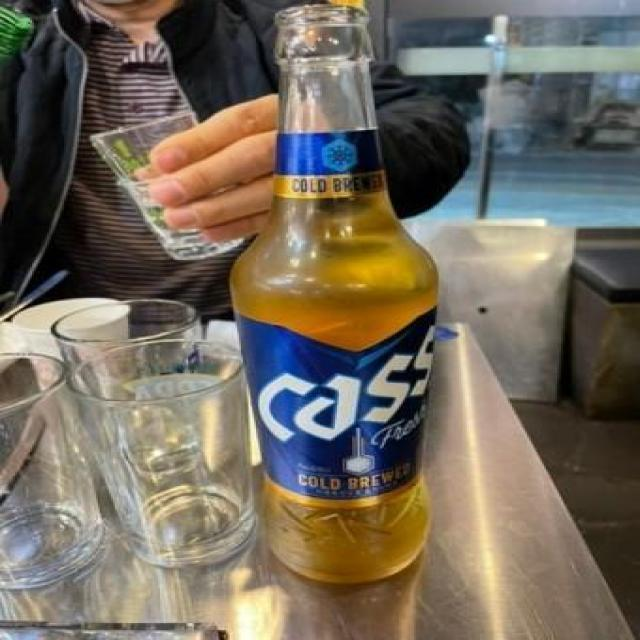beer-bottle: (220, 2, 450, 590)
